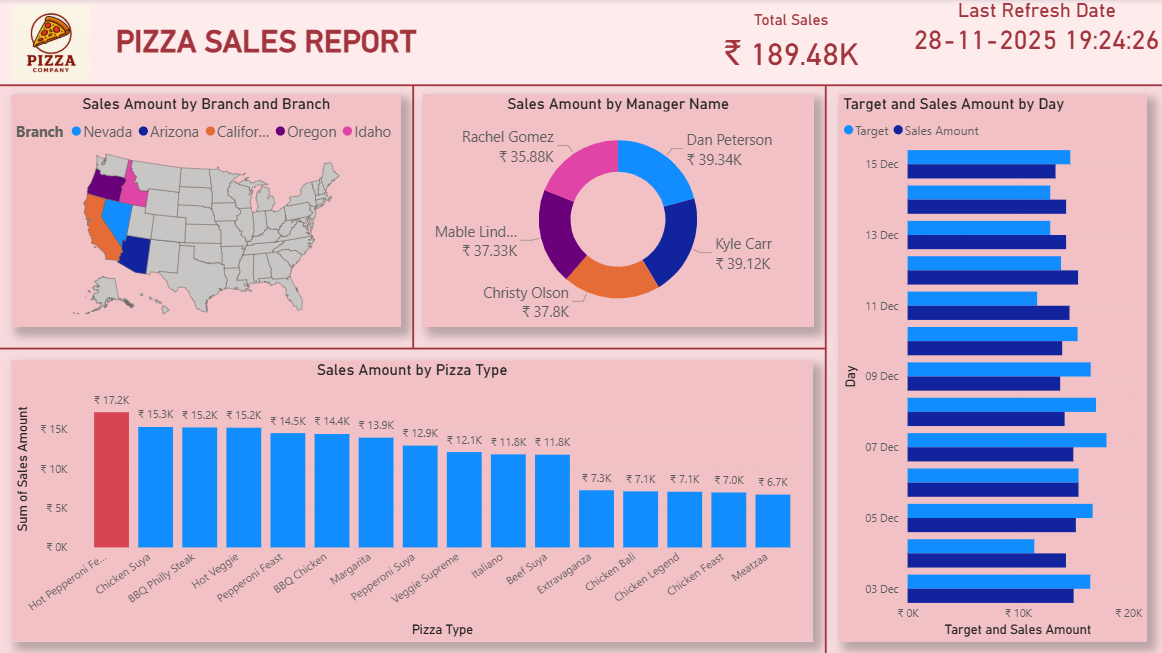

The page's visual inventory and layout, read from the dashboard file:
{"tool":"powerbi","page":{"name":"Main Dashboard","canvas":[1280,720],"ordinal":0},"visuals":[{"type":"shape","box":[0,0,1280.3,94.7],"z":0},{"type":"card","title":"Last Refresh Date","fields":{"Values":["LastRefreshDate.LastRefreshDate"]},"box":[996.2,0,284,63.1],"z":1000},{"type":"textbox","box":[111.1,22,362.3,50.8],"z":2000},{"type":"shape","box":[0,85.1,1280.3,19.2],"z":3000},{"type":"shapeMap","title":"Sales Amount by Branch and Branch","fields":{"Category":["Branch Data.Branch"],"Series":["Branch Data.Branch"],"Value":["Sales.Sales Amount"]},"box":[12.7,104.2,428.2,256.3],"z":4000},{"type":"donutChart","title":"Sales Amount by Manager Name","fields":{"Category":["Branch Data.Manager Name"],"Y":["Sales.Sales Amount"]},"box":[463.4,104.2,429.6,256.3],"z":5000},{"type":"clusteredColumnChart","title":"Sales Amount by Pizza Type","fields":{"Category":["Sales.Pizza Type"],"Y":["Sales.Sales Amount"]},"box":[12.7,397.2,880.3,308.5],"z":6000},{"type":"clusteredBarChart","title":"Target and Sales Amount by Day","fields":{"Y":["Daily Target.Target","Sales.Sales Amount"],"Category":["Daily Target.Day"]},"box":[921.1,104.2,338,601.4],"z":7000},{"type":"card","title":"Total Sales","fields":{"Values":["Sales.Sales Amount"]},"box":[778,12.3,181.1,71.4],"z":8000},{"type":"image","box":[12.5,4.8,87.5,84.6],"z":8001},{"type":"shape","box":[0,349.3,907,67.6],"z":8002},{"type":"shape","box":[901.4,94.4,9.9,625.4],"z":8003},{"type":"shape","box":[423.9,94.4,59.2,288.7],"z":8004}]}

Visuals, with their boxes in screenshot pixels (x1, y1, x2, y2), scaled from the page's 1280x720 canvas onto the 1162x653 screenshot:
shape: (left=0, top=0, right=1161, bottom=86)
"Last Refresh Date" card: (left=904, top=0, right=1161, bottom=57)
textbox: (left=101, top=20, right=430, bottom=66)
shape: (left=0, top=77, right=1161, bottom=95)
"Sales Amount by Branch and Branch" shapeMap: (left=12, top=95, right=400, bottom=327)
"Sales Amount by Manager Name" donutChart: (left=421, top=95, right=811, bottom=327)
"Sales Amount by Pizza Type" clusteredColumnChart: (left=12, top=360, right=811, bottom=640)
"Target and Sales Amount by Day" clusteredBarChart: (left=836, top=95, right=1143, bottom=640)
"Total Sales" card: (left=706, top=11, right=871, bottom=76)
image: (left=11, top=4, right=91, bottom=81)
shape: (left=0, top=317, right=823, bottom=378)
shape: (left=818, top=86, right=827, bottom=652)
shape: (left=385, top=86, right=439, bottom=347)
